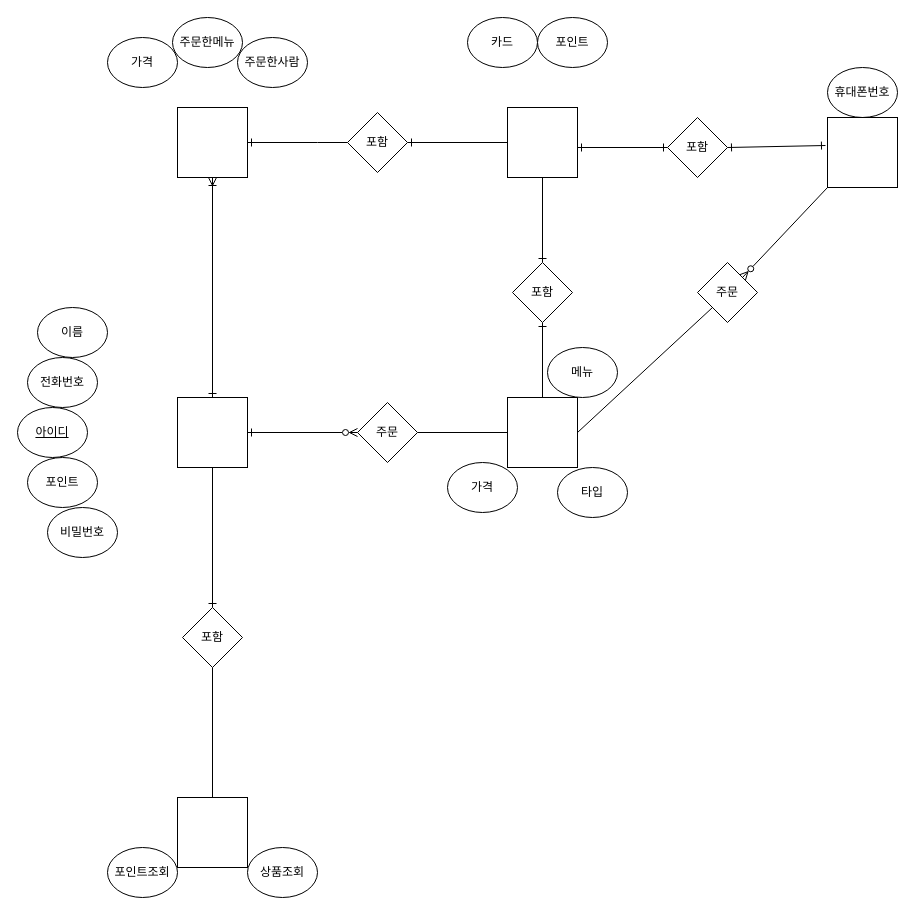
Some shapes in this 915 by 915 pixel diagram are drawn without their labels. The shapes that lost their labels are listed below. From the top down, each one's box as (x1, y1, x2, y2) in pixels, then its label:
(176, 106, 248, 178): 주문내역
(506, 106, 578, 178): 결제
(826, 116, 898, 188): 비회원
(176, 396, 248, 468): 회원
(506, 396, 578, 468): 상품 (메뉴)
(176, 796, 248, 868): 로그인정보
